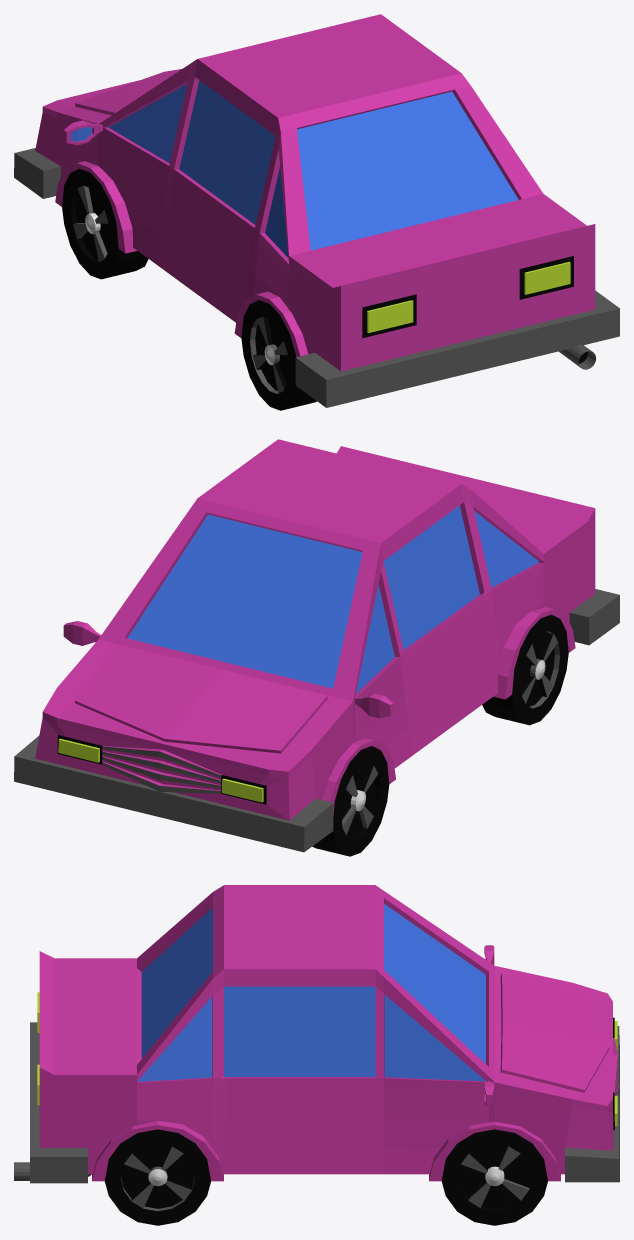
The model's file is car_2.fbx.
The picture shows the model from 3 angles, top to bottom: view 1: azimuth 30°, elevation 25°; view 2: azimuth 150°, elevation 25°; view 3: azimuth 270°, elevation 25°; orthographic projection. The views are drawn at different scales.
Visible parts, largest first — view 1: Car8; view 2: Car8; view 3: Car8.
Part boxes in pixels (x1=…): Car8: x1=14, y1=14, x2=619, y2=410; Car8: x1=14, y1=439, x2=619, y2=856; Car8: x1=14, y1=885, x2=619, y2=1225.
Size of the model in its own units: 73.11 by 53.96 by 125.
